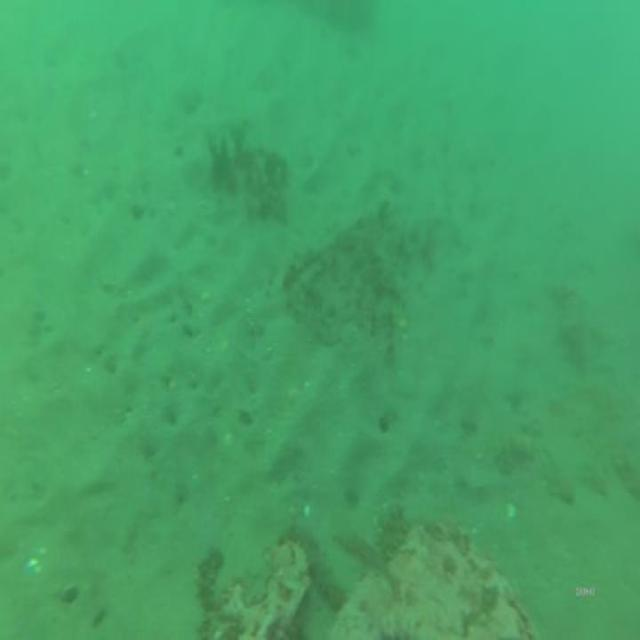holothurian: (284, 517, 343, 613), (194, 542, 225, 615)
